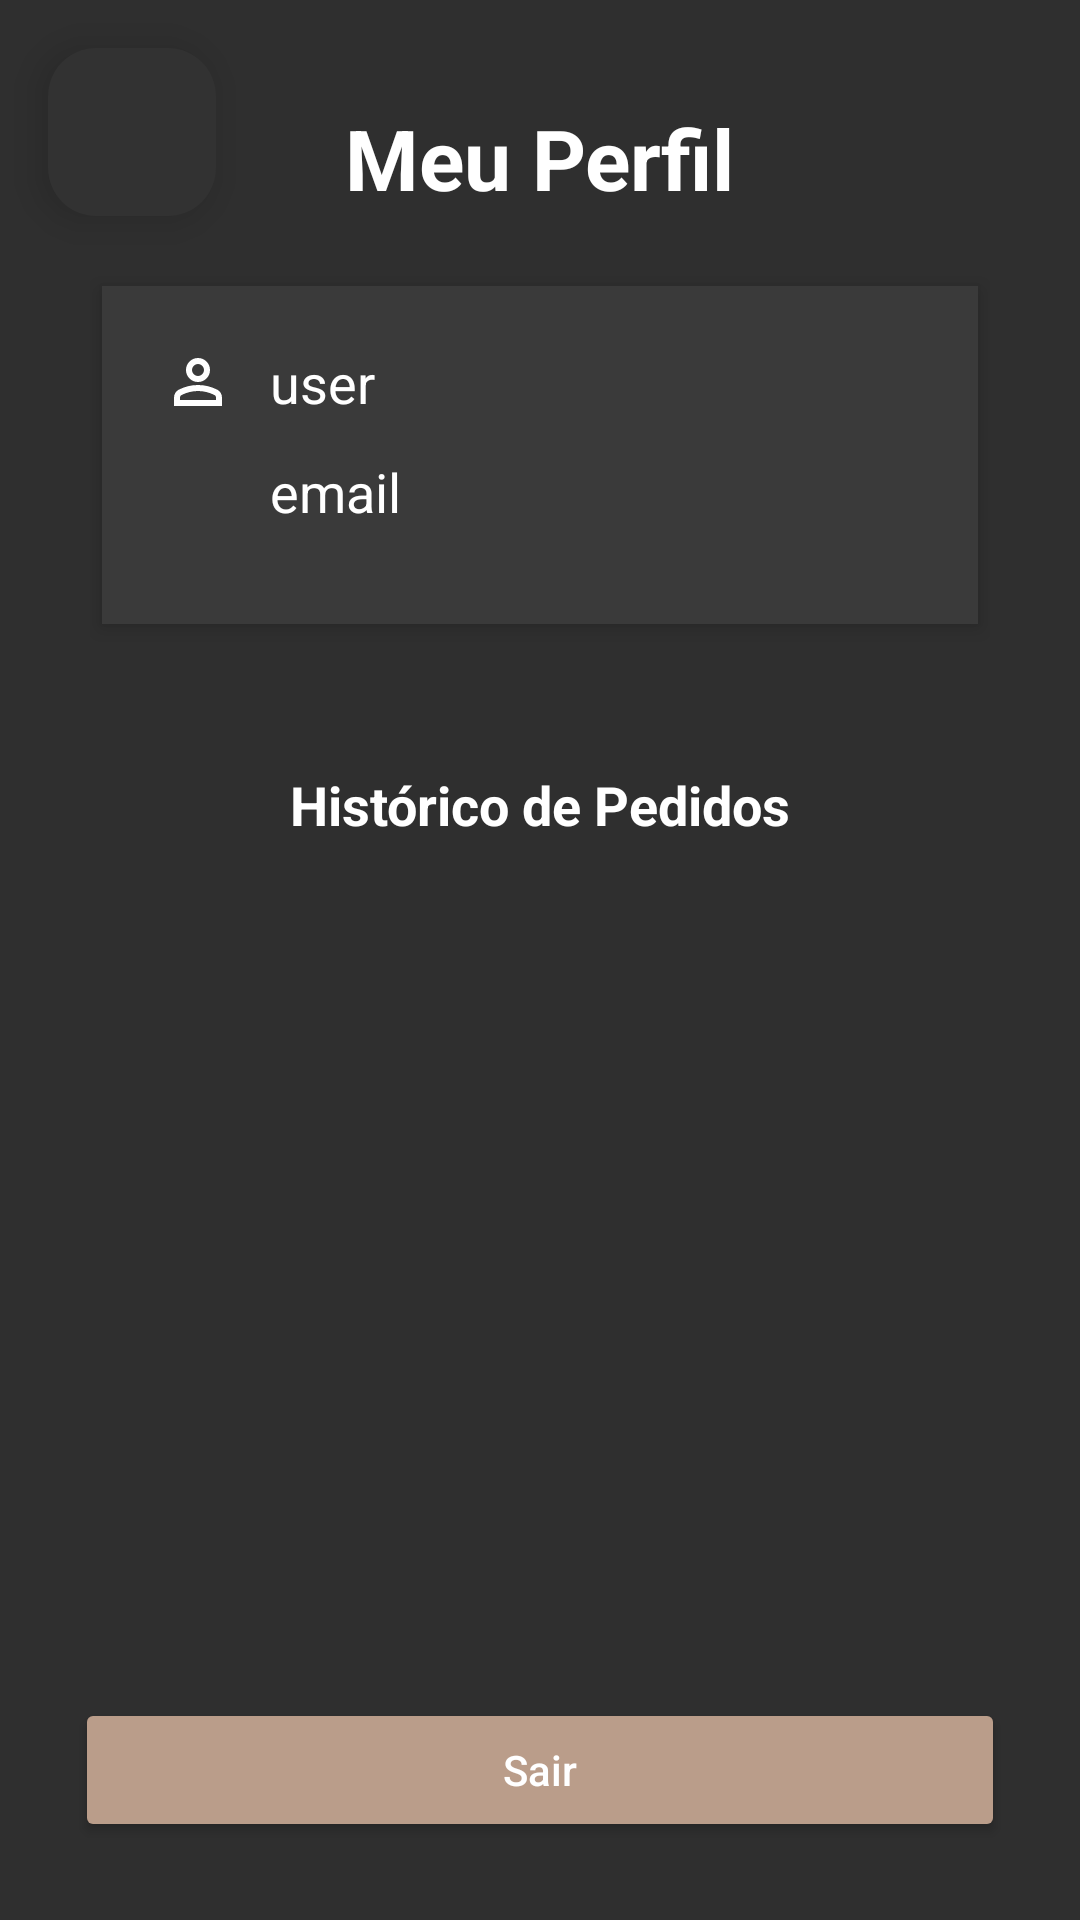

Icons on this 1080px x 1920px Android screen, each with the point to tap as [x,y]:
person: [198,382]
